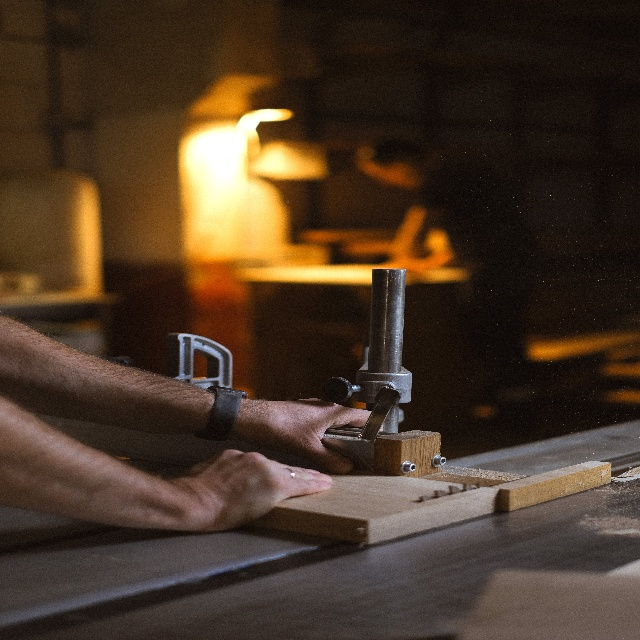Sin_guantes: (182, 446, 332, 531), (271, 398, 373, 474)
